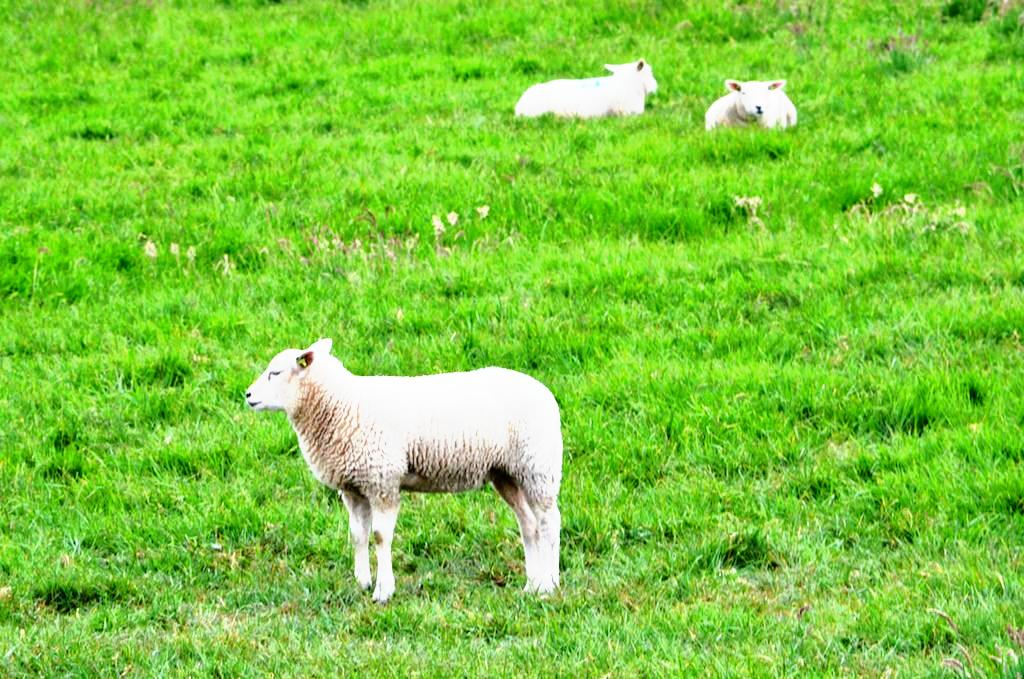Sheep: (241, 336, 562, 595), (517, 53, 659, 126), (703, 81, 797, 137)
